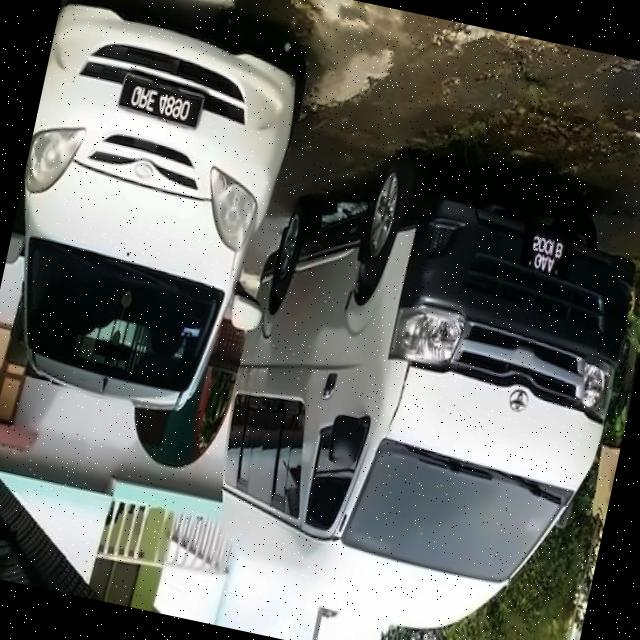License_Plate: (113, 74, 207, 141), (510, 228, 580, 284)
car: (1, 1, 308, 430)
van: (202, 137, 640, 640)
